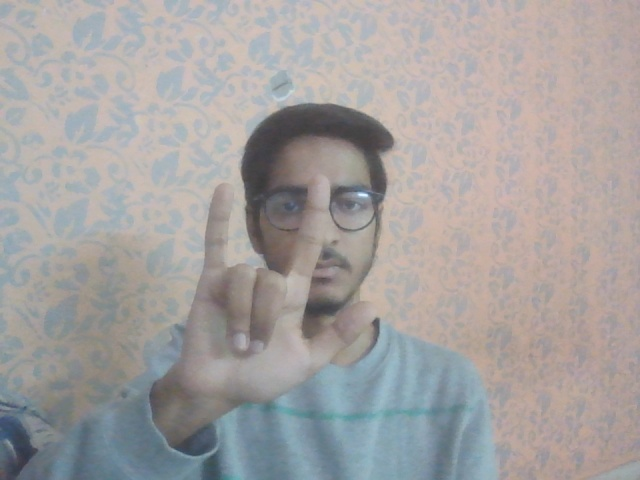ILoveYou: (176, 173, 378, 408)
